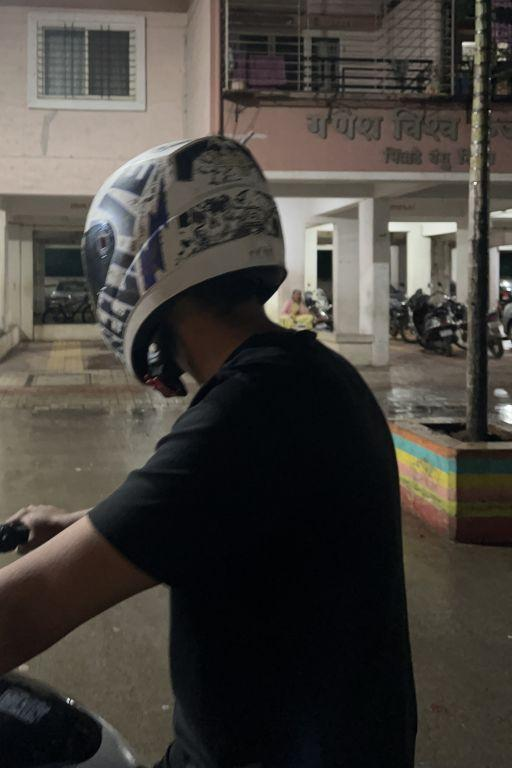helmet: (64, 115, 299, 406)
